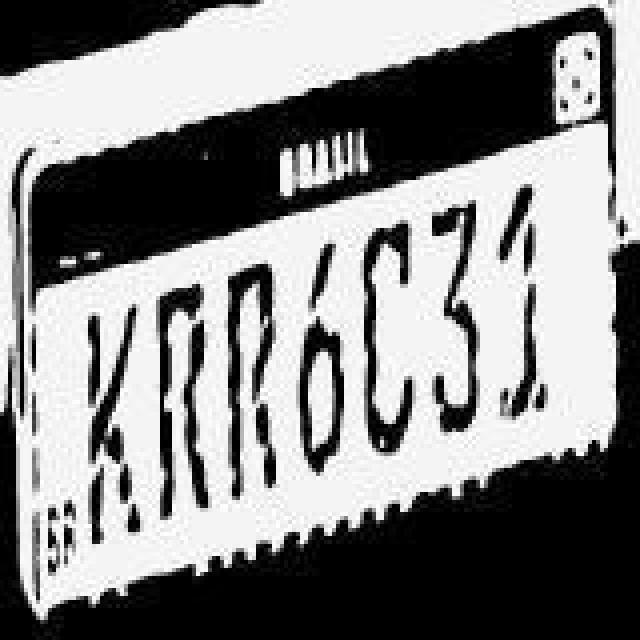1: (498, 184, 550, 424)
3: (430, 202, 482, 438)
6: (296, 242, 344, 478)
C: (360, 220, 416, 452)
K: (82, 302, 142, 546)
R: (158, 282, 210, 526), (228, 258, 276, 502)
